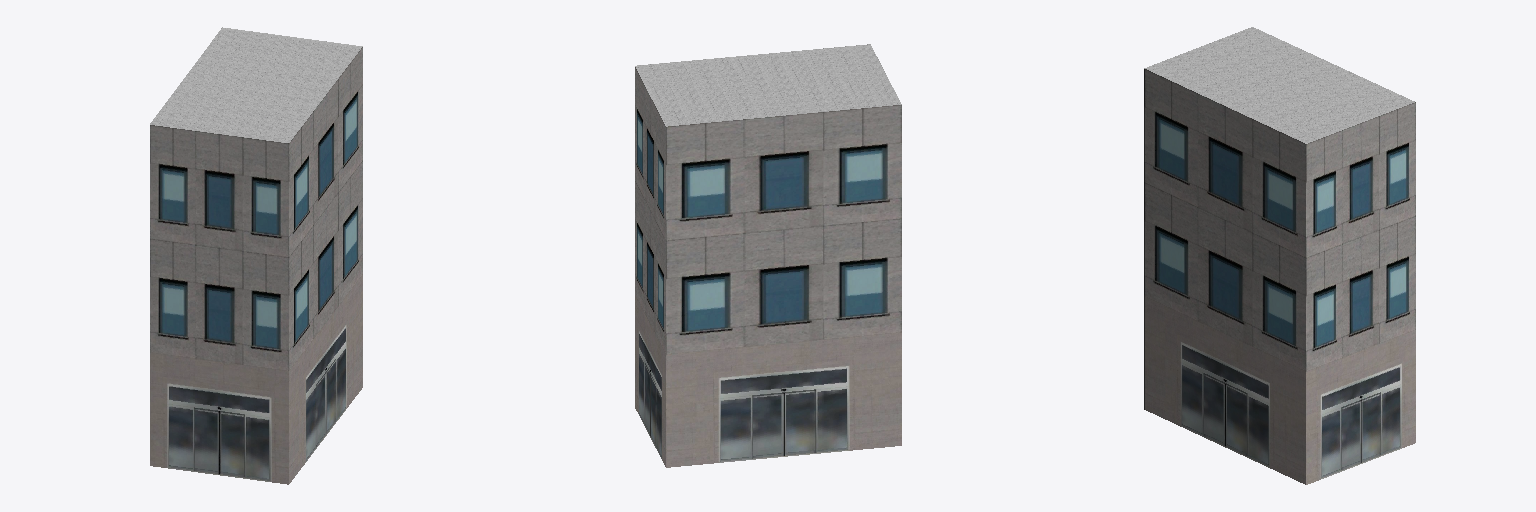
3 renders of one model, left to right at view 1: azimuth 30°, elevation 25°; view 2: azimuth 150°, elevation 25°; view 3: azimuth 270°, elevation 25°, orthographic.
Parts seen in each view (by area): view 1: BuildingMaster_[number redacted]_0, BuildingMaster_[number redacted]_1; view 2: BuildingMaster_[number redacted]_0, BuildingMaster_[number redacted]_1; view 3: BuildingMaster_[number redacted]_0, BuildingMaster_[number redacted]_1.
Boxes of the visible parts, <box> form: BuildingMaster_[number redacted]_0: <box>150,47,362,484</box>; BuildingMaster_[number redacted]_1: <box>150,27,362,142</box>; BuildingMaster_[number redacted]_0: <box>635,67,901,467</box>; BuildingMaster_[number redacted]_1: <box>635,44,901,126</box>; BuildingMaster_[number redacted]_0: <box>1144,69,1415,484</box>; BuildingMaster_[number redacted]_1: <box>1144,27,1414,143</box>.
Size of the model in its own units: 7.74 by 10.5 by 7.57.
2 materials, 2 textured.